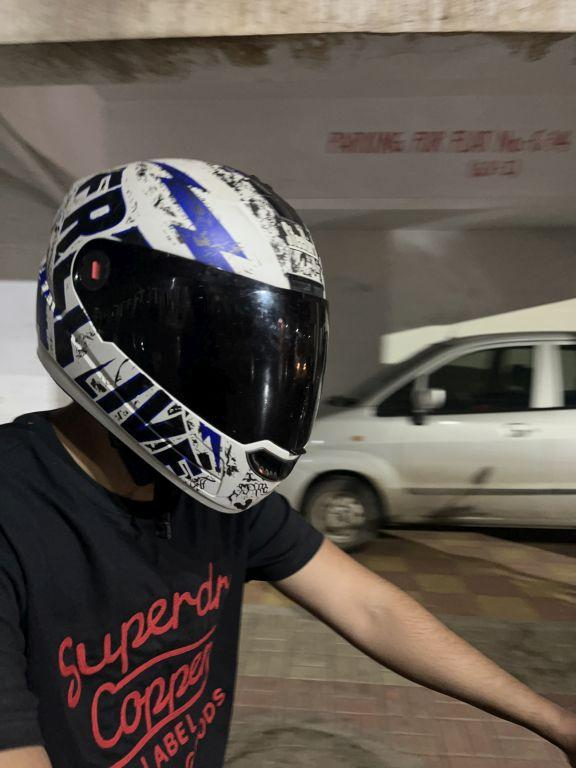helmet: (25, 139, 336, 534)
